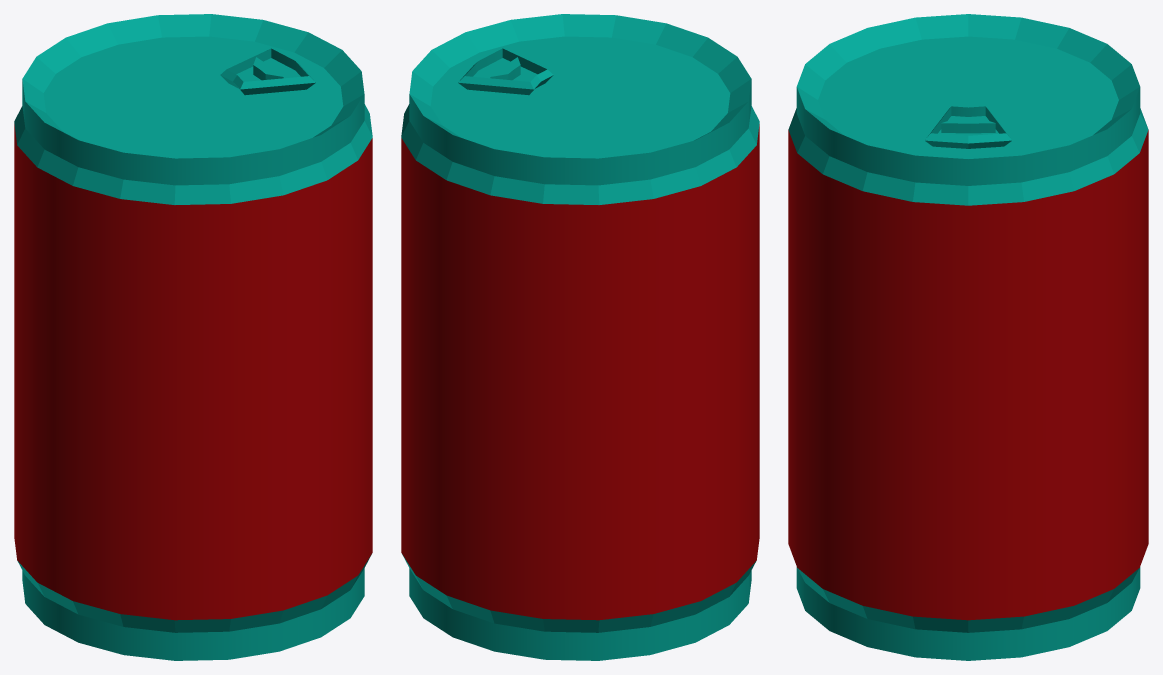
The model's file is pick up that can.fbx.
The picture shows the model from 3 angles, left to right: view 1: azimuth 30°, elevation 25°; view 2: azimuth 150°, elevation 25°; view 3: azimuth 270°, elevation 25°; orthographic projection.
Parts seen in each view (by area): view 1: pCylinder1; view 2: pCylinder1; view 3: pCylinder1.
Boxes of the visible parts, <box> form: pCylinder1: <box>14,14,372,660</box>; pCylinder1: <box>401,14,759,660</box>; pCylinder1: <box>788,14,1148,660</box>.
Size of the model in its own units: 2 by 3.08 by 2.
